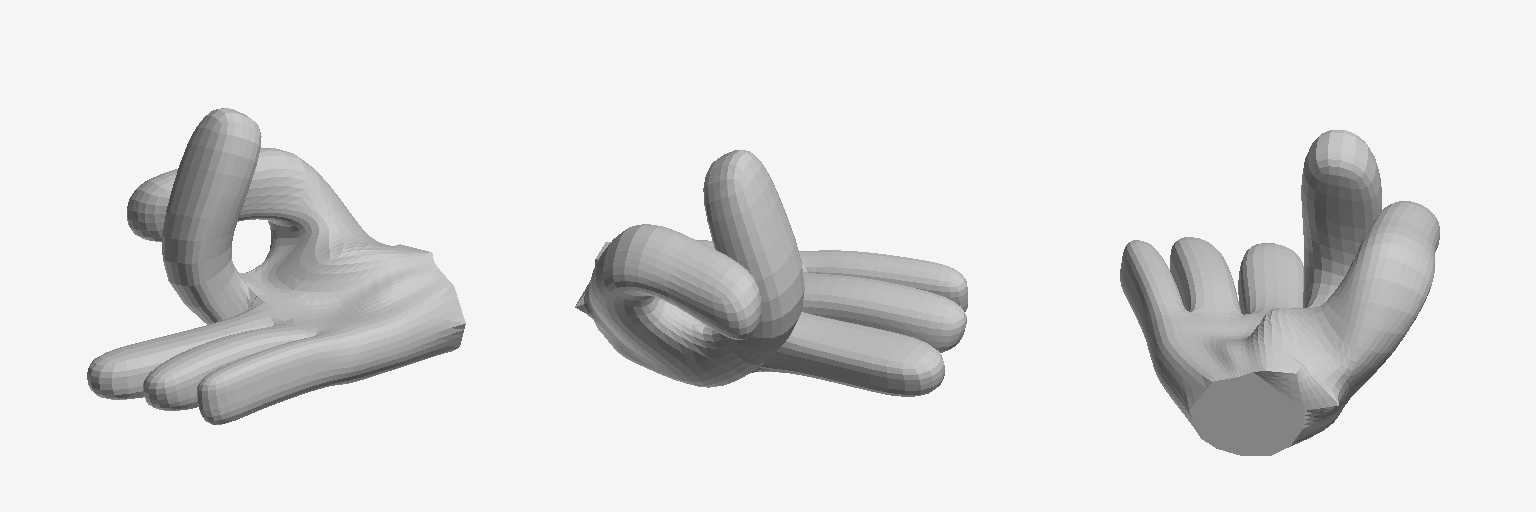
3 renders of one model, left to right at view 1: azimuth 30°, elevation 25°; view 2: azimuth 150°, elevation 25°; view 3: azimuth 270°, elevation 25°, orthographic.
Visible parts, largest first — view 1: F_Hand_not_complete; view 2: F_Hand_not_complete; view 3: F_Hand_not_complete.
Boxes of the visible parts, box(x1,y1,x2,y2) form: F_Hand_not_complete: box(87, 108, 465, 424); F_Hand_not_complete: box(575, 150, 967, 396); F_Hand_not_complete: box(1120, 130, 1439, 455).
Bounding box in the file's own units: 189 × 133 × 155.